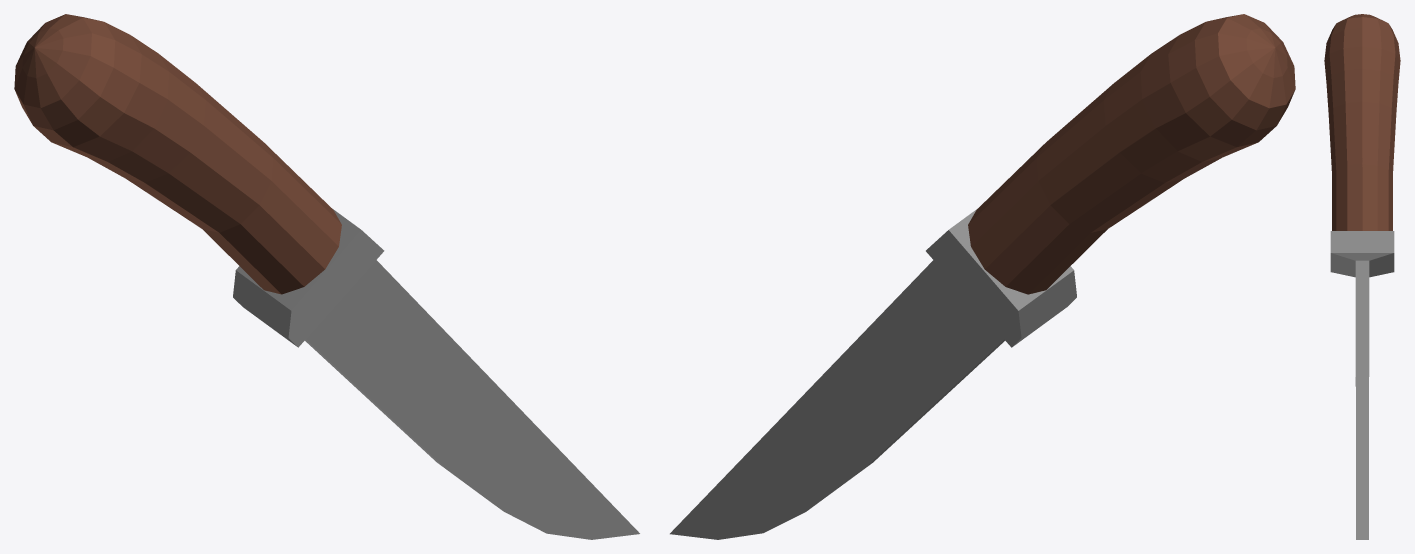
File: knife.fbx
3 renders of one model, left to right at view 1: azimuth 30°, elevation 25°; view 2: azimuth 150°, elevation 25°; view 3: azimuth 270°, elevation 25°, orthographic. The views are drawn at different scales.
Visible parts, largest first — view 1: Cylinder, Cube; view 2: Cylinder, Cube; view 3: Cylinder, Cube.
Part boxes in pixels (x1,y1,x2,y2): Cylinder: (14,14,341,294); Cube: (233,208,639,539); Cylinder: (968,14,1295,294); Cube: (670,208,1076,539); Cylinder: (1324,14,1400,230); Cube: (1330,231,1394,539).
Size of the model in its own units: 432 by 437 by 81.64.
